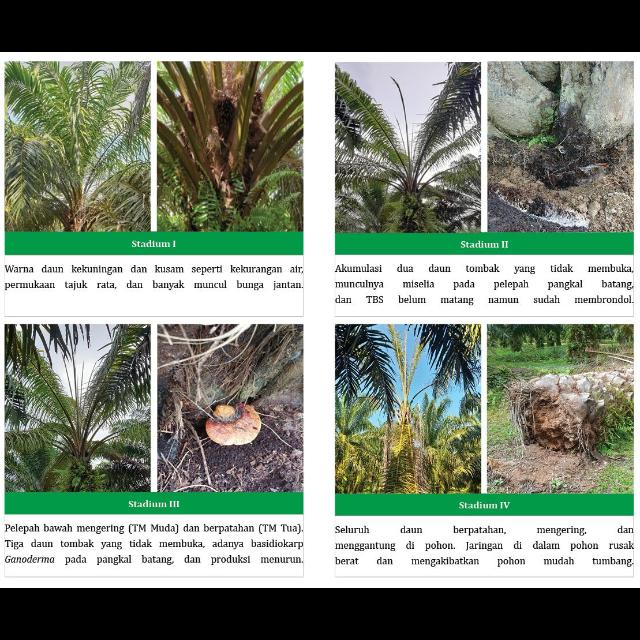ganoderma: (206, 406, 263, 447)
